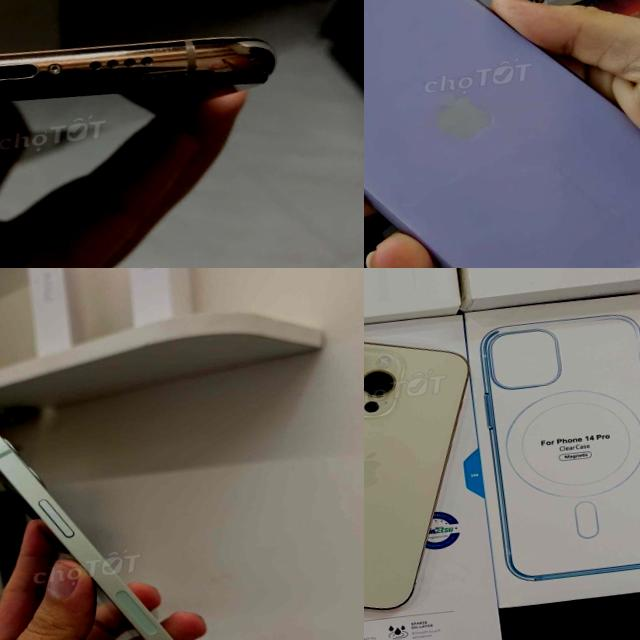gen_11: (364, 0, 640, 268), (0, 3, 286, 154)
gen_12_13: (0, 385, 234, 640)
gen_14: (364, 314, 496, 624)
scratch: (0, 18, 200, 135)
